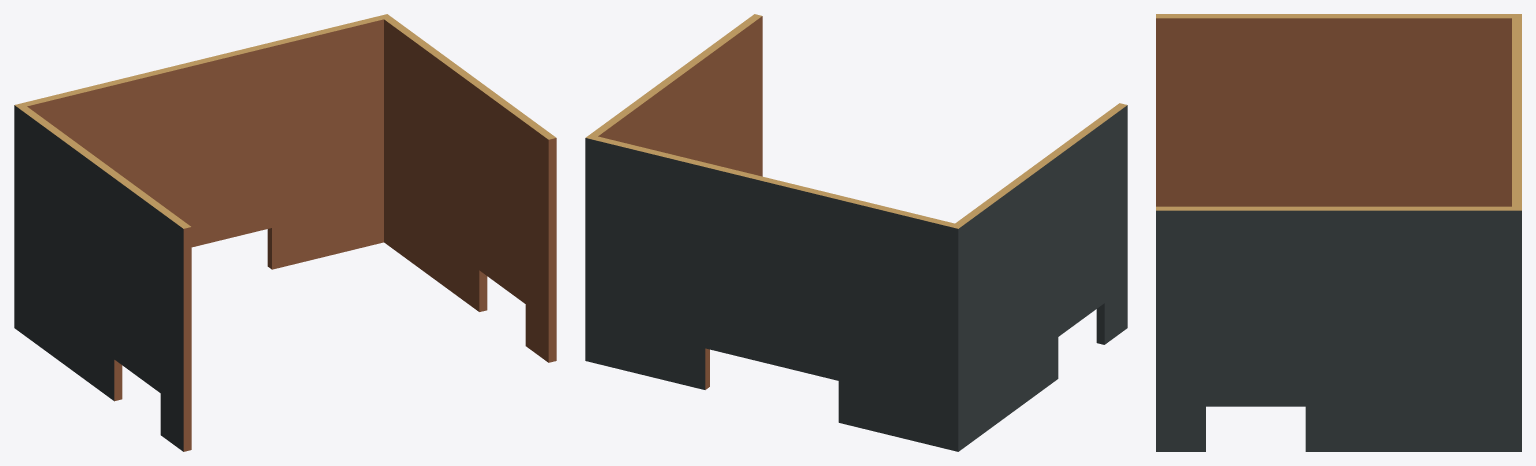
3 renders of one model, left to right at view 1: azimuth 30°, elevation 25°; view 2: azimuth 150°, elevation 25°; view 3: azimuth 270°, elevation 25°, orthographic. The views are drawn at different scales.
Visible parts, largest first — view 1: OneContinuousNotchedUScreen; view 2: OneContinuousNotchedUScreen; view 3: OneContinuousNotchedUScreen.
Part boxes in pixels (x1,y1,x2,y2): OneContinuousNotchedUScreen: (14,14,556,451); OneContinuousNotchedUScreen: (585,14,1127,451); OneContinuousNotchedUScreen: (1156,14,1521,451).
Bounding box in the file's own units: 0.56 × 0.32 × 0.44.
